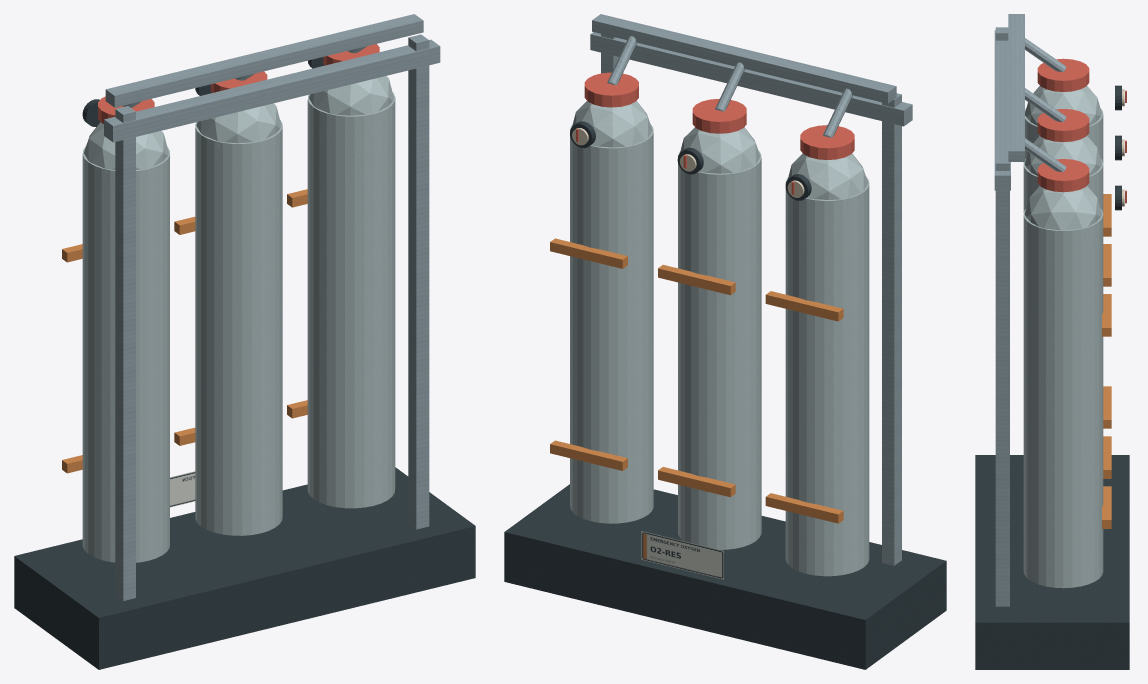
The model's file is oxygen_reserve_tank.glb.
3 views of the same model, side by side, from view 1: azimuth 30°, elevation 25°; view 2: azimuth 150°, elevation 25°; view 3: azimuth 270°, elevation 25° (orthographic). The views are drawn at different scales.
Visible parts, largest first — view 1: Pressure_Cylinders__tank, Base__graphite, Frame__alloy, static__alloy, Manifold__alloy, Bottle_Retention__amber, Regulators__red, static__label_O2-RES; view 2: Pressure_Cylinders__tank, Base__graphite, Frame__alloy, Manifold__alloy, Bottle_Retention__amber, static__alloy, Regulators__red, static__label_O2-RES, Gauges__graphite; view 3: Pressure_Cylinders__tank, Base__graphite, Frame__alloy, Regulators__red, Manifold__alloy, Bottle_Retention__amber, static__alloy, Gauges__graphite.
Boxes of the visible parts, x1,y1,x2,y2 form: Pressure_Cylinders__tank: (82,76,395,562); Base__graphite: (14,467,475,669); Frame__alloy: (115,34,429,600); static__alloy: (104,39,440,142); Manifold__alloy: (105,14,423,107); Bottle_Retention__amber: (62,189,307,473); Regulators__red: (98,44,379,123); static__label_O2-RES: (170,471,195,507); Pressure_Cylinders__tank: (570,101,869,576); Base__graphite: (504,484,946,669); Frame__alloy: (601,34,901,565); Manifold__alloy: (592,14,896,137); Bottle_Retention__amber: (550,238,843,523); static__alloy: (590,32,912,126); Regulators__red: (584,72,854,159); static__label_O2-RES: (641,531,723,579); Gauges__graphite: (570,121,811,200); Pressure_Cylinders__tank: (1023,86,1103,588); Base__graphite: (975,455,1129,669); Frame__alloy: (995,27,1009,606); Regulators__red: (1037,58,1089,192); Manifold__alloy: (1008,14,1066,171); Bottle_Retention__amber: (1102,194,1111,528); static__alloy: (994,30,1010,190); Gauges__graphite: (1115,85,1121,210).
Size of the model in its own units: 1.44 by 2.04 by 0.575.
Materials: 9 (9 with a texture image).
